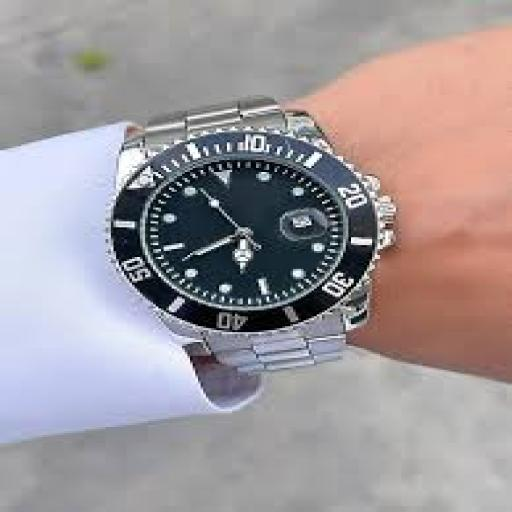KolSaati: (69, 78, 388, 400)
